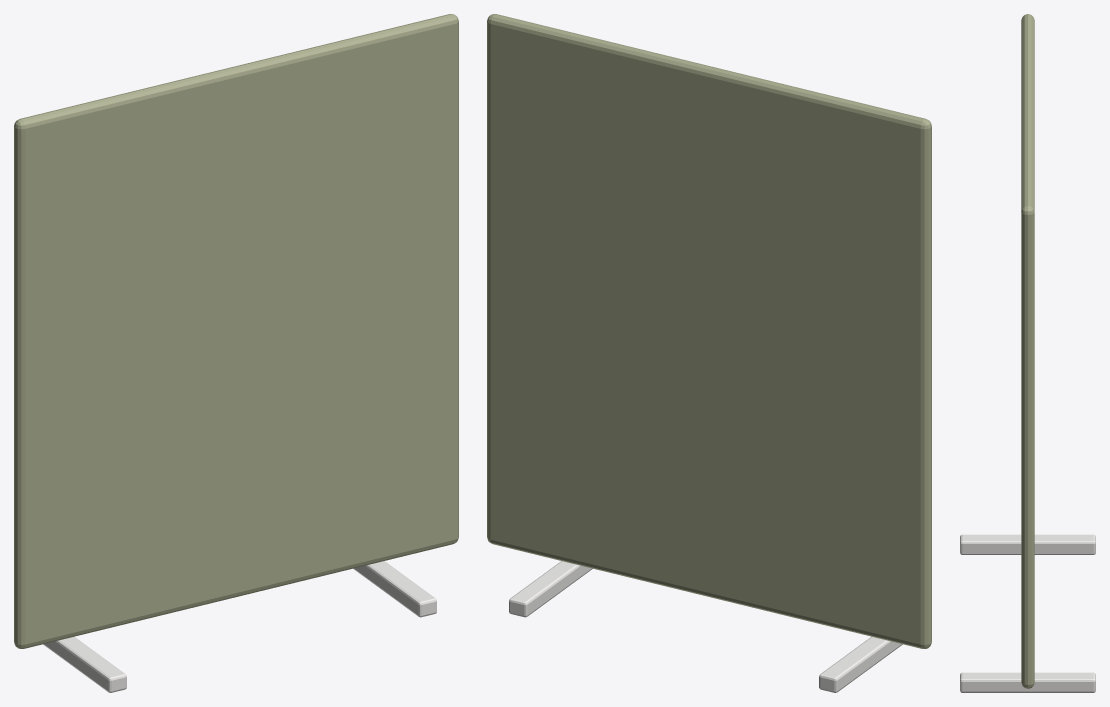
The model's file is partitions___dividers_asset_catalog_41.glb.
3 renders of one model, left to right at view 1: azimuth 30°, elevation 25°; view 2: azimuth 150°, elevation 25°; view 3: azimuth 270°, elevation 25°, orthographic. The views are drawn at different scales.
Parts seen in each view (by area): view 1: Cube; view 2: Cube; view 3: Cube.
Part boxes in pixels (box(x1,y1,x2,y2)): Cube: box(14, 14, 458, 692); Cube: box(487, 14, 931, 692); Cube: box(960, 14, 1095, 692).
Bounding box in the file's own units: 1.2 × 1.45 × 0.35.
